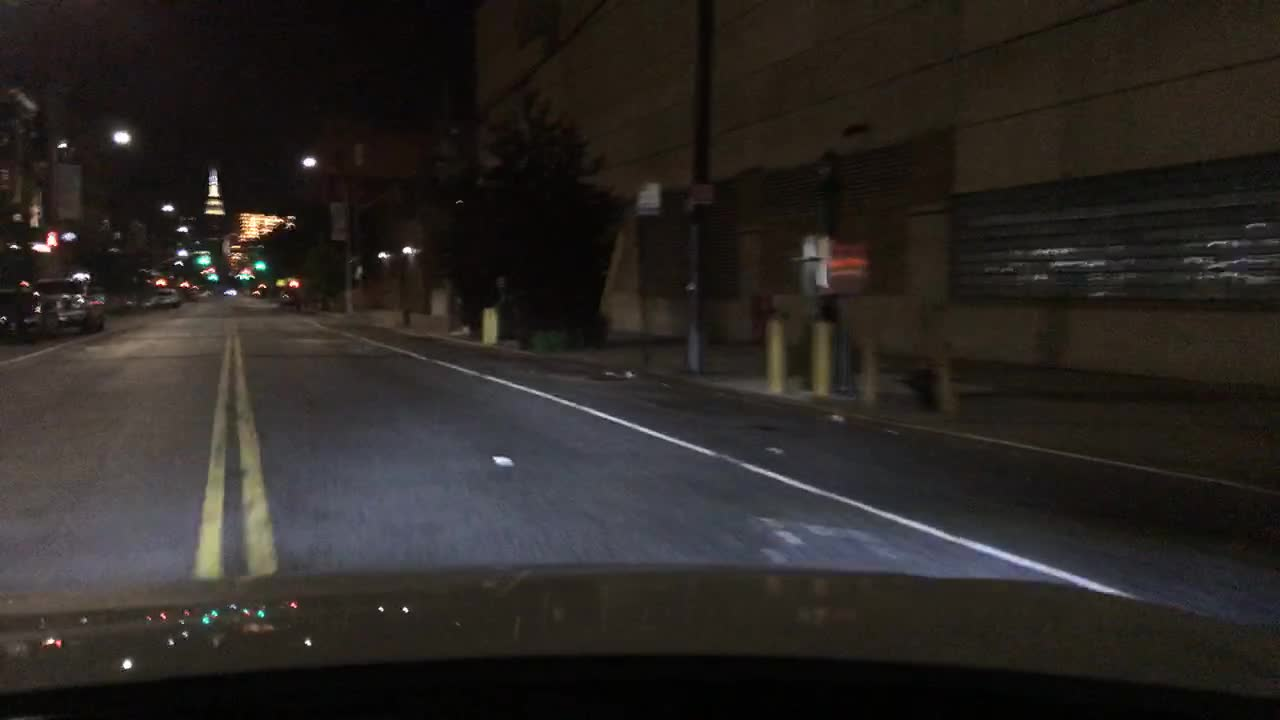car: (33, 275, 105, 336), (0, 284, 42, 341), (140, 286, 180, 309), (189, 281, 215, 301), (223, 286, 240, 298), (280, 292, 293, 307)
traffic light: (45, 228, 61, 247), (195, 252, 211, 266), (287, 277, 303, 289), (254, 260, 266, 272), (208, 269, 218, 281)
traffic sign: (633, 182, 664, 217), (329, 200, 350, 244), (688, 182, 713, 208)
